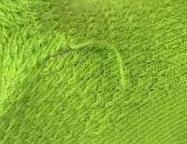snag: (67, 32, 133, 90)
